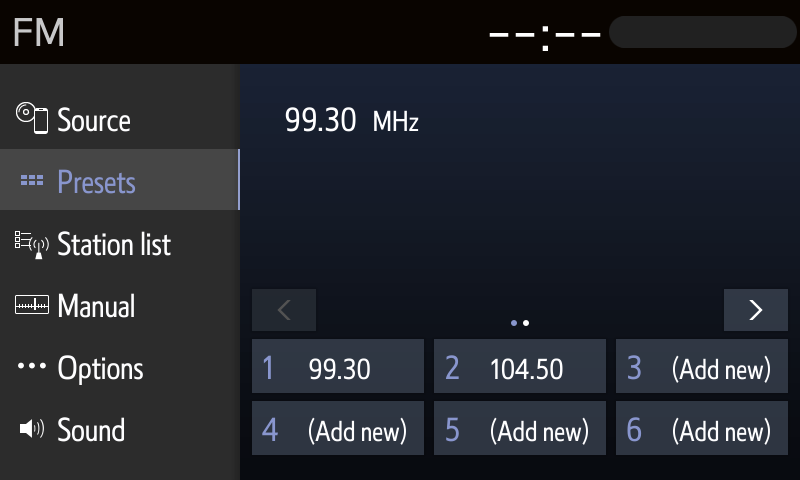touchPart: (252, 338, 424, 393), (432, 401, 607, 455), (434, 338, 607, 392), (617, 339, 789, 393), (253, 401, 425, 453), (617, 402, 788, 454), (3, 225, 177, 266), (5, 99, 145, 141), (5, 351, 148, 386), (4, 412, 133, 450), (2, 291, 145, 323), (723, 289, 788, 332)
untouchPart: (608, 11, 799, 50), (4, 158, 145, 204), (470, 10, 604, 58), (280, 102, 423, 141), (253, 290, 314, 331), (11, 9, 69, 50)
